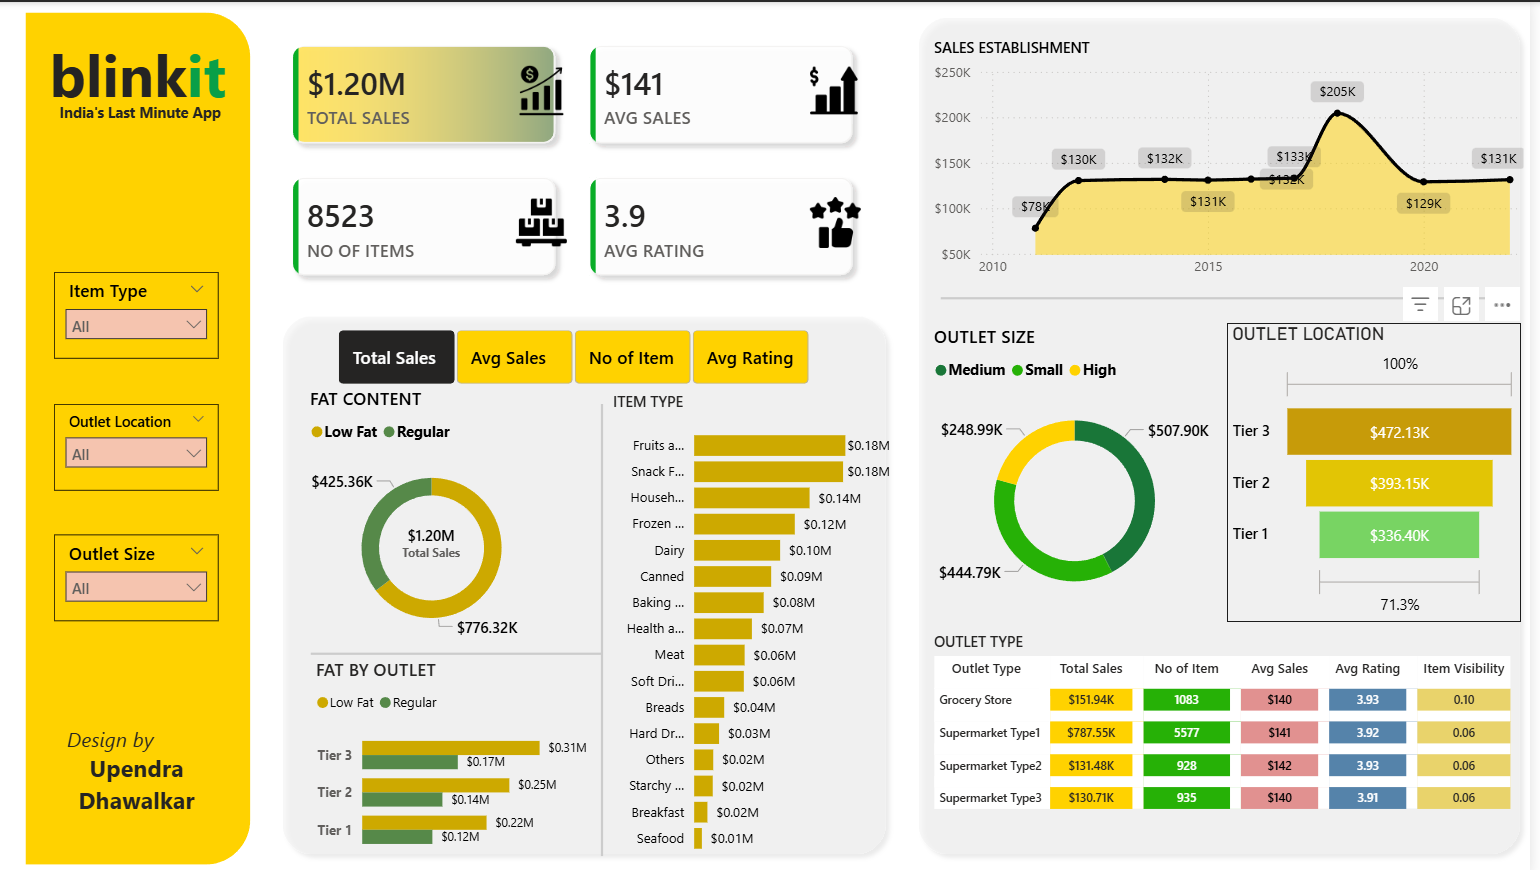

What the dashboard file says about the page in this screenshot:
{"tool":"powerbi","page":{"name":"Page 1","canvas":[1400,800],"ordinal":0},"visuals":[{"type":"shape","box":[22.9,10,205.7,780],"z":0},{"type":"textbox","box":[38.6,24.3,175.7,95.7],"z":1000},{"type":"textbox","box":[50,87.1,164.3,32.9],"z":2000},{"type":"cardVisual","fields":{"Data":["BlinkIT Grocery Data.Total Sales","BlinkIT Grocery Data.Avg Sales","BlinkIT Grocery Data.No of Item","BlinkIT Grocery Data.Avg Rating"]},"box":[238.5,11.6,571.4,270],"z":3000},{"type":"image","box":[468.7,58,54.7,46.4],"z":4000},{"type":"image","box":[735.3,58,54.7,46.4],"z":5000},{"type":"image","box":[737,178.9,54.7,46.4],"z":6000},{"type":"image","box":[468.7,178.9,54.7,46.4],"z":7000},{"type":"shape","box":[250.1,278.2,569.7,510.1],"z":8000},{"type":"advancedSlicerVisual","fields":{"Values":["Matrix.Matrix"]},"box":[304.7,294.8,440.5,59.6],"z":9000},{"type":"donutChart","title":"FAT CONTENT","fields":{"Y":["BlinkIT Grocery Data.Total Sales"],"Category":["BlinkIT Grocery Data.Item Fat Content"]},"box":[278.2,351.1,231.9,245.1],"z":10000},{"type":"cardVisual","fields":{"Data":["BlinkIT Grocery Data.Total Sales"]},"box":[334.5,455.4,119.2,77.8],"z":11000},{"type":"clusteredBarChart","title":"FAT BY OUTLET","fields":{"Y":["BlinkIT Grocery Data.Total Sales"],"Series":["BlinkIT Grocery Data.Item Fat Content"],"Category":["BlinkIT Grocery Data.Outlet Location Type"]},"box":[284.9,599.5,258.4,190.5],"z":12000},{"type":"shape","box":[284.9,573,266.6,48],"z":13000},{"type":"shape","box":[516.7,367.7,69.6,414],"z":14000},{"type":"barChart","title":"ITEM TYPE","fields":{"Y":["BlinkIT Grocery Data.Total Sales"],"Category":["BlinkIT Grocery Data.Item Type"]},"box":[556.5,356.1,263.3,433.9],"z":15000},{"type":"shape","box":[831.4,5,568.1,783.4],"z":16000},{"type":"lineChart","title":"SALES ESTABLISHMENT","fields":{"Category":["BlinkIT Grocery Data.Outlet Establishment Year"],"Y":["BlinkIT Grocery Data.Total Sales"]},"box":[849.6,31.5,549.8,228.6],"z":17000},{"type":"shape","box":[861.2,246.8,521.7,48],"z":18000},{"type":"donutChart","title":"OUTLET SIZE","fields":{"Y":["BlinkIT Grocery Data.Total Sales"],"Category":["BlinkIT Grocery Data.Outlet Size"]},"box":[849.6,294.8,266.6,271.6],"z":19000},{"type":"funnel","title":"OUTLET LOCATION","fields":{"Y":["BlinkIT Grocery Data.Total Sales"],"Category":["BlinkIT Grocery Data.Outlet Location Type"]},"box":[1122.9,293.1,270,273.3],"z":20000},{"type":"pivotTable","title":"OUTLET TYPE","fields":{"Rows":["BlinkIT Grocery Data.Outlet Type"],"Values":["BlinkIT Grocery Data.Total Sales","BlinkIT Grocery Data.No of Item","BlinkIT Grocery Data.Avg Sales","BlinkIT Grocery Data.Avg Rating","Avg(BlinkIT Grocery Data.Item Visibility)"]},"box":[849.6,574.7,543.2,198.7],"z":21000},{"type":"slicer","fields":{"Values":["BlinkIT Grocery Data.Item Type"]},"box":[49.7,246.8,150.7,79.5],"z":21001},{"type":"slicer","fields":{"Values":["BlinkIT Grocery Data.Outlet Location Type"]},"box":[49.7,367.7,150.7,79.5],"z":21002},{"type":"slicer","fields":{"Values":["BlinkIT Grocery Data.Outlet Size"]},"box":[49.7,486.9,150.7,79.5],"z":21003},{"type":"textbox","box":[56.3,655.8,137.5,117.6],"z":21004}]}

Visuals, with their boxes in screenshot pixels (x1, y1, x2, y2), scaled from the page's 1400x800 canvas onto the 1540x870 screenshot:
shape: [x1=25, y1=11, x2=251, y2=859]
textbox: [x1=42, y1=26, x2=236, y2=130]
textbox: [x1=55, y1=95, x2=236, y2=130]
cardVisual - BlinkIT Grocery Data.Total Sales x BlinkIT Grocery Data.Avg Sales: [x1=262, y1=13, x2=891, y2=306]
image: [x1=516, y1=63, x2=576, y2=114]
image: [x1=809, y1=63, x2=869, y2=114]
image: [x1=811, y1=195, x2=871, y2=245]
image: [x1=516, y1=195, x2=576, y2=245]
shape: [x1=275, y1=303, x2=902, y2=857]
advancedSlicerVisual - Matrix.Matrix: [x1=335, y1=321, x2=820, y2=385]
"FAT CONTENT" donutChart: [x1=306, y1=382, x2=561, y2=648]
cardVisual - BlinkIT Grocery Data.Total Sales: [x1=368, y1=495, x2=499, y2=580]
"FAT BY OUTLET" clusteredBarChart: [x1=313, y1=652, x2=598, y2=859]
shape: [x1=313, y1=623, x2=607, y2=675]
shape: [x1=568, y1=400, x2=645, y2=850]
"ITEM TYPE" barChart: [x1=612, y1=387, x2=902, y2=859]
shape: [x1=915, y1=5, x2=1539, y2=857]
"SALES ESTABLISHMENT" lineChart: [x1=935, y1=34, x2=1539, y2=283]
shape: [x1=947, y1=268, x2=1521, y2=321]
"OUTLET SIZE" donutChart: [x1=935, y1=321, x2=1228, y2=616]
"OUTLET LOCATION" funnel: [x1=1235, y1=319, x2=1532, y2=616]
"OUTLET TYPE" pivotTable: [x1=935, y1=625, x2=1532, y2=841]
slicer - BlinkIT Grocery Data.Item Type: [x1=55, y1=268, x2=220, y2=355]
slicer - BlinkIT Grocery Data.Outlet Location Type: [x1=55, y1=400, x2=220, y2=486]
slicer - BlinkIT Grocery Data.Outlet Size: [x1=55, y1=530, x2=220, y2=616]
textbox: [x1=62, y1=713, x2=213, y2=841]
